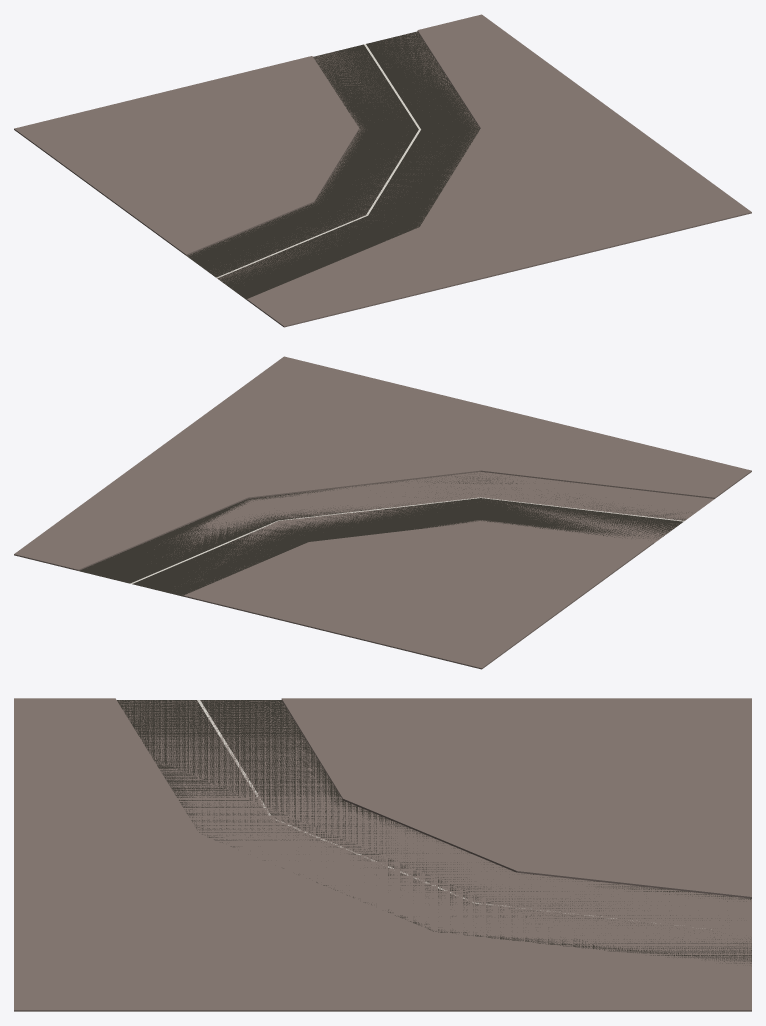
The model's file is Env_1lane_CurveA.fbx.
The picture shows the model from 3 angles, top to bottom: view 1: azimuth 30°, elevation 25°; view 2: azimuth 150°, elevation 25°; view 3: azimuth 270°, elevation 25°; orthographic projection. The views are drawn at different scales.
Visible parts, largest first — view 1: Env_1lane_CurveA; view 2: Env_1lane_CurveA; view 3: Env_1lane_CurveA.
Boxes of the visible parts, x1=… form: Env_1lane_CurveA: x1=14, y1=14, x2=751, y2=327; Env_1lane_CurveA: x1=14, y1=356, x2=751, y2=669; Env_1lane_CurveA: x1=14, y1=698, x2=751, y2=1011.
Bounding box in the file's own units: 4000 × 10 × 4000.
